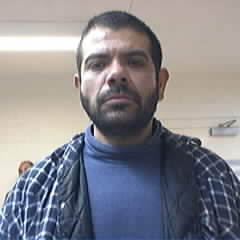face: (73, 11, 169, 131)
